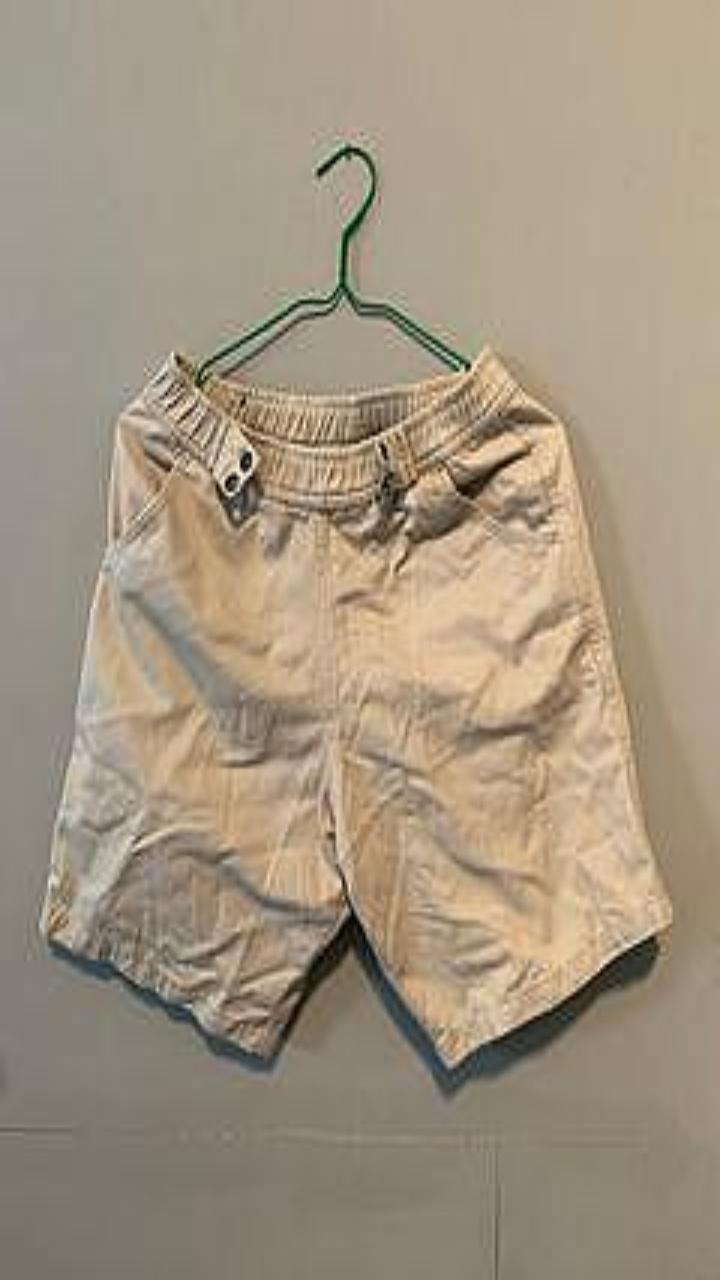Shorts: (40, 345, 671, 1066)
